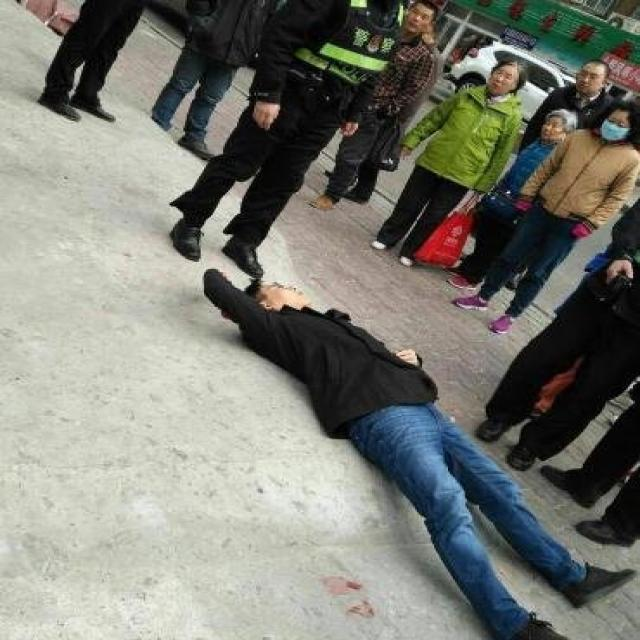10-: (29, 2, 638, 634)
down: (213, 271, 636, 638)
